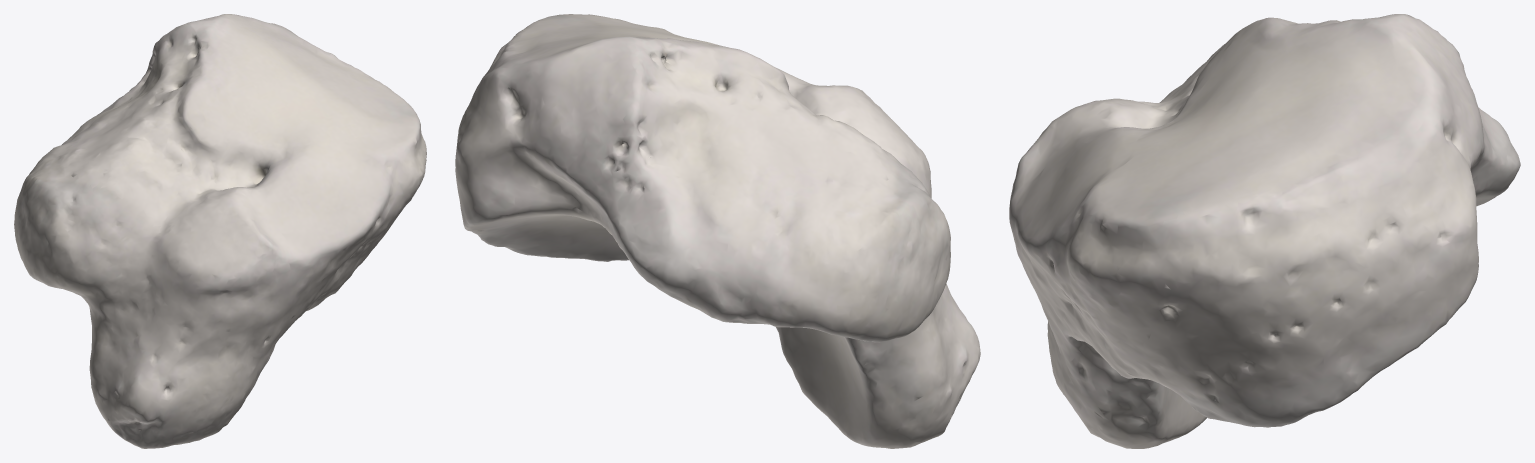
The picture shows the model from 3 angles, left to right: view 1: azimuth 30°, elevation 25°; view 2: azimuth 150°, elevation 25°; view 3: azimuth 270°, elevation 25°; orthographic projection. The views are drawn at different scales.
Parts seen in each view (by area): view 1: Os tarsi centrale_li_Katze.001; view 2: Os tarsi centrale_li_Katze.001; view 3: Os tarsi centrale_li_Katze.001.
Part boxes in pixels (x1=…): Os tarsi centrale_li_Katze.001: x1=14, y1=14, x2=426, y2=448; Os tarsi centrale_li_Katze.001: x1=455, y1=14, x2=980, y2=448; Os tarsi centrale_li_Katze.001: x1=1009, y1=14, x2=1520, y2=448.
Size of the model in its own units: 971 by 867 by 813.
Materials: 1 (1 with a texture image).
